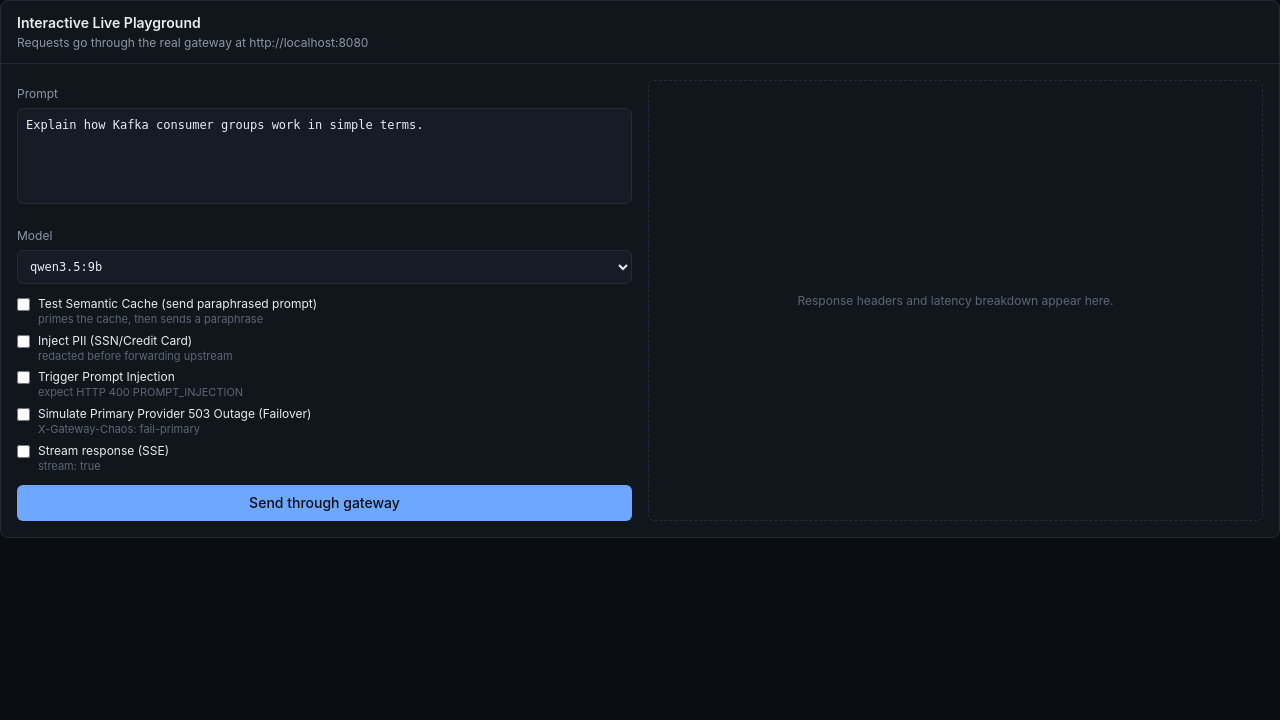
Scenario: Playground › reports an unreachable token endpoint
Click the button with test id "send-button".
click(324, 503)  # box top-left (17, 485), bottom-right (632, 521)
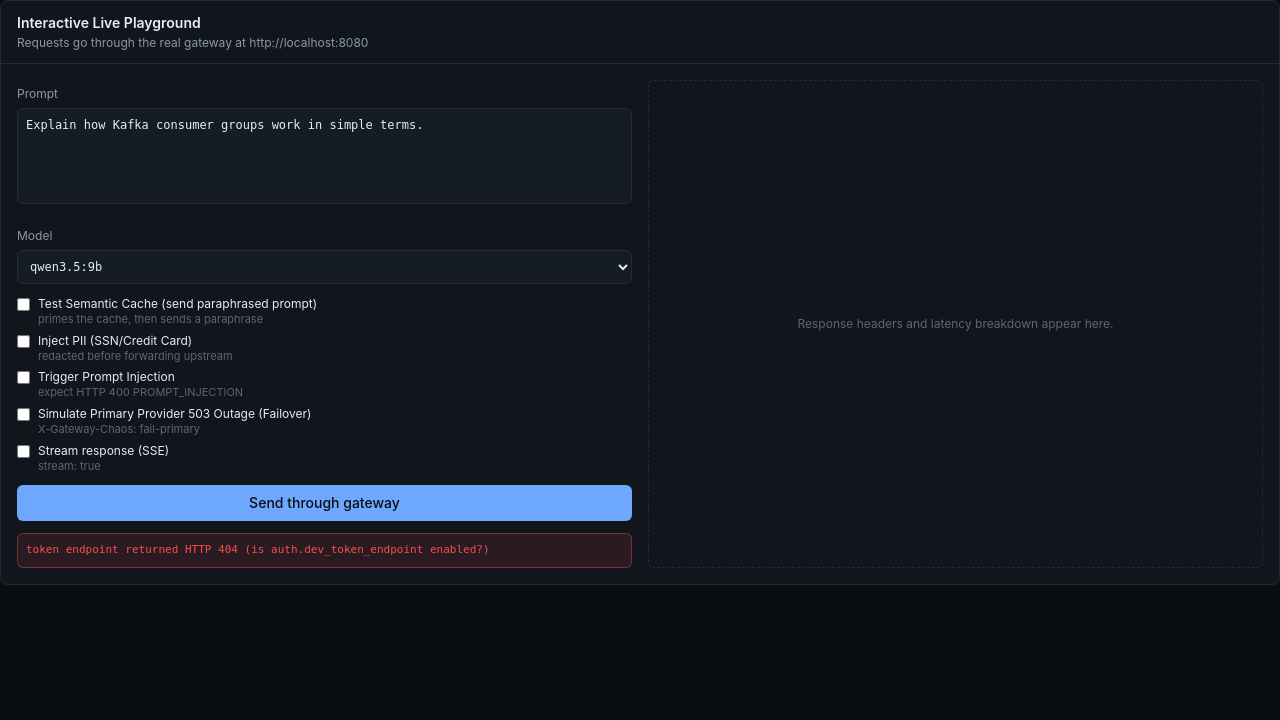
Now the text with test id "playground-error" shows "token endpoint returned HTTP 404", box top-left (26, 543), bottom-right (490, 556)
